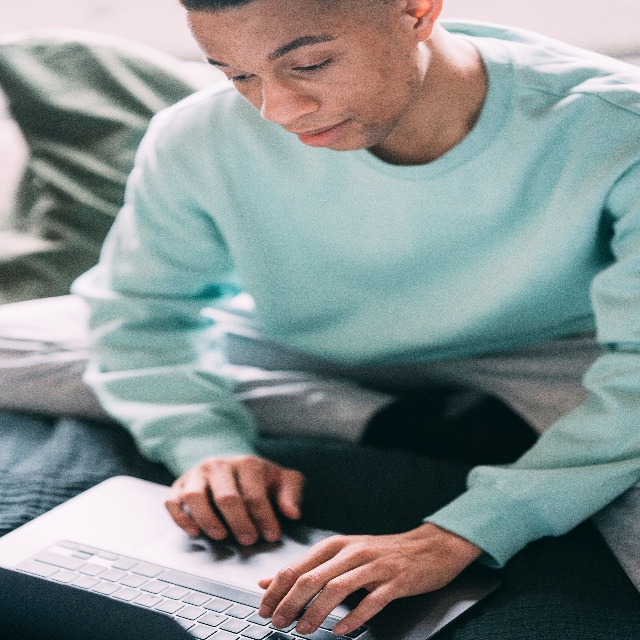Sin_guantes: (256, 519, 471, 639), (163, 452, 306, 551)
